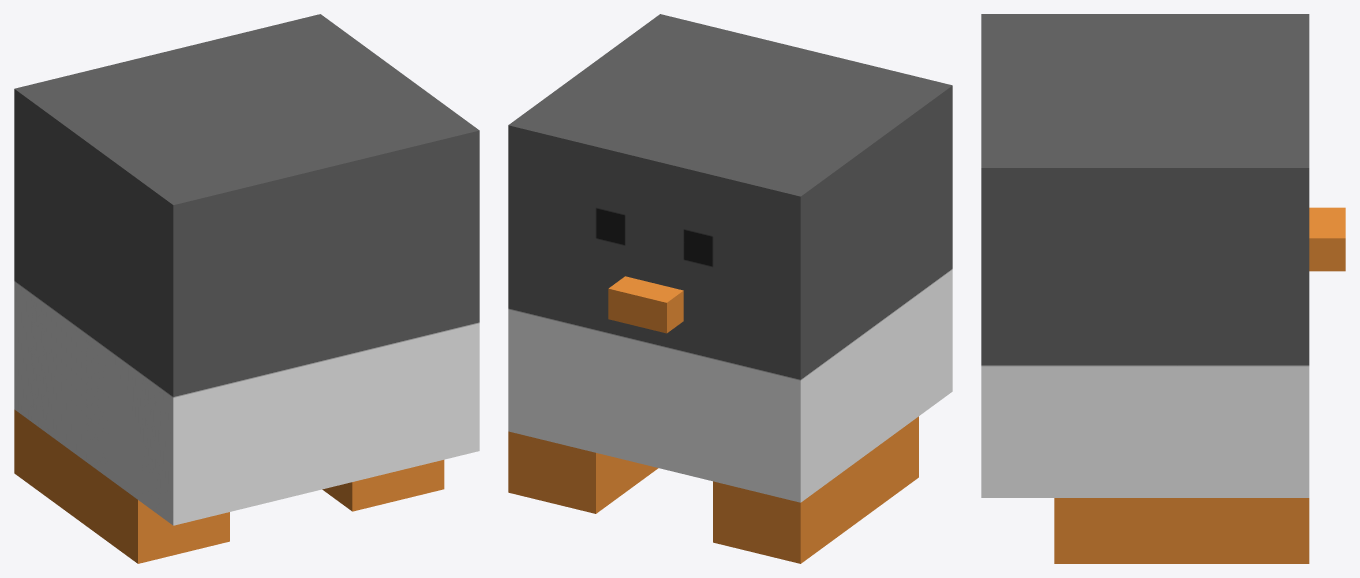
File: Character_15.fbx
3 views of the same model, side by side, from view 1: azimuth 30°, elevation 25°; view 2: azimuth 150°, elevation 25°; view 3: azimuth 270°, elevation 25° (orthographic). The views are drawn at different scales.
Parts seen in each view (by area): view 1: Character_15; view 2: Character_15; view 3: Character_15.
Part boxes in pixels (bbox=[...]): Character_15: bbox=[14, 14, 479, 563]; Character_15: bbox=[508, 14, 952, 563]; Character_15: bbox=[981, 14, 1345, 563].
Size of the model in its own units: 10 by 12 by 10.
1 material, 1 textured.
